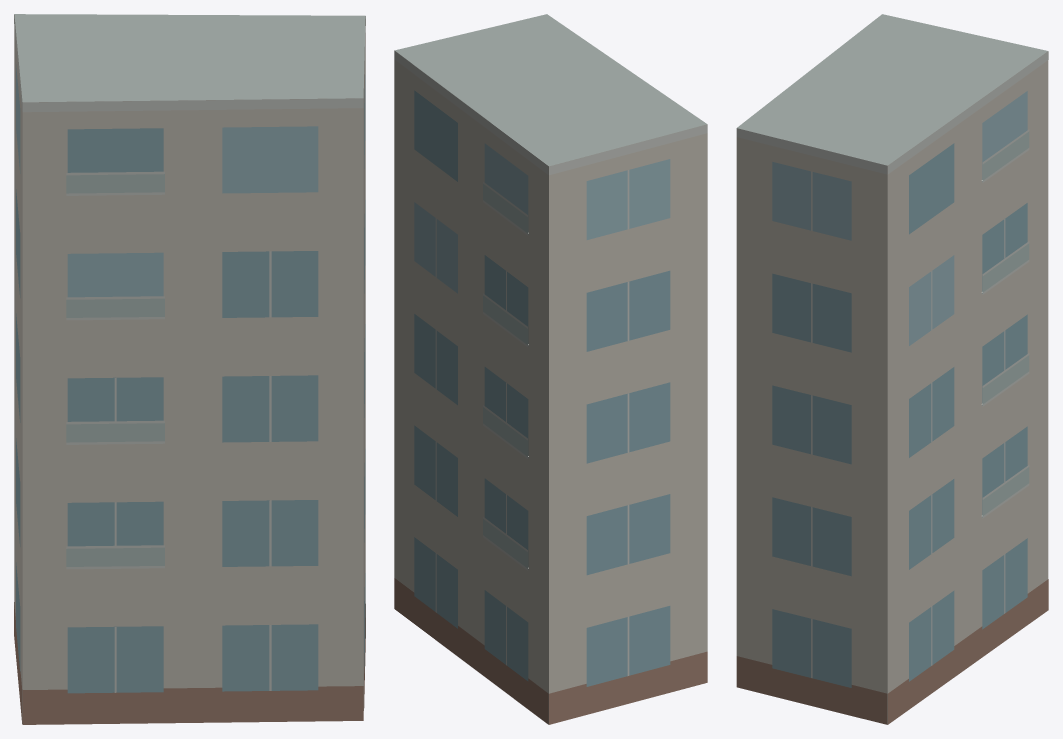
The model's file is survey-upis-32727014.glb.
3 views of the same model, side by side, from view 1: azimuth 30°, elevation 25°; view 2: azimuth 150°, elevation 25°; view 3: azimuth 270°, elevation 25° (orthographic). The views are drawn at different scales.
Parts seen in each view (by area): view 1: survey-upis-32727014.tmp; view 2: survey-upis-32727014.tmp; view 3: survey-upis-32727014.tmp.
Boxes of the visible parts, box(x1,y1,x2,y2) form: survey-upis-32727014.tmp: box(14, 14, 365, 724); survey-upis-32727014.tmp: box(394, 14, 707, 724); survey-upis-32727014.tmp: box(736, 14, 1048, 724).
Bounding box in the file's own units: 8.88 × 15.25 × 7.72.
